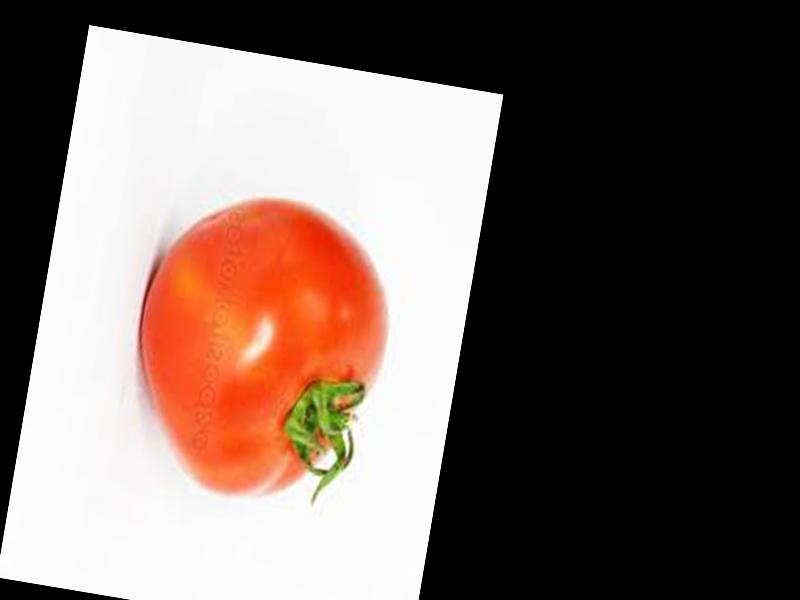Tomato: (116, 180, 410, 516)
